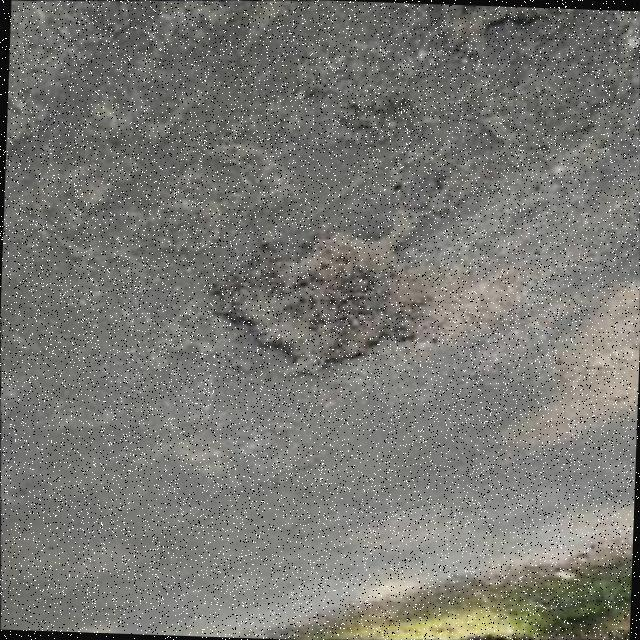Pothole: (215, 203, 419, 375)
